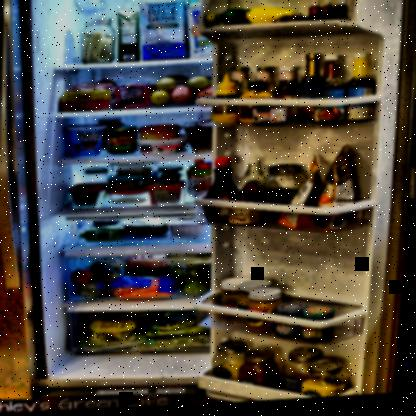apple: (171, 87, 195, 106)
lemon: (186, 78, 209, 92), (151, 92, 170, 106), (156, 79, 176, 92)
milk: (138, 1, 187, 67), (116, 10, 141, 63)
yoghurt: (64, 123, 107, 157)
